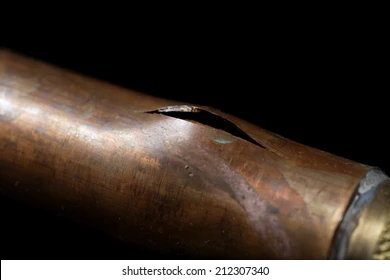rupture: (131, 100, 279, 153)
